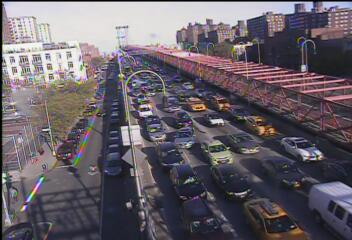neg: (253, 163, 292, 215), (98, 94, 128, 134), (259, 16, 288, 55), (194, 140, 221, 177), (242, 100, 268, 135), (178, 90, 201, 121), (12, 82, 35, 112), (168, 29, 190, 59), (39, 40, 61, 68), (15, 32, 33, 56), (73, 32, 89, 54)
pos: (3, 181, 23, 206), (27, 149, 36, 162)
